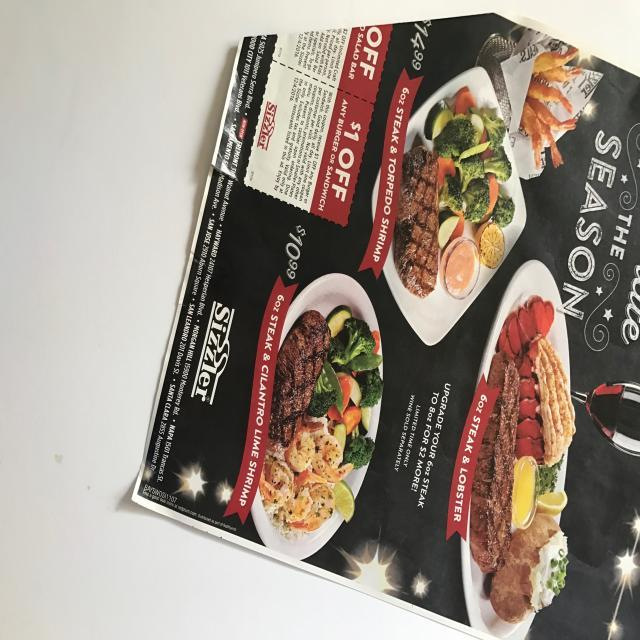paper: (129, 11, 640, 640)
